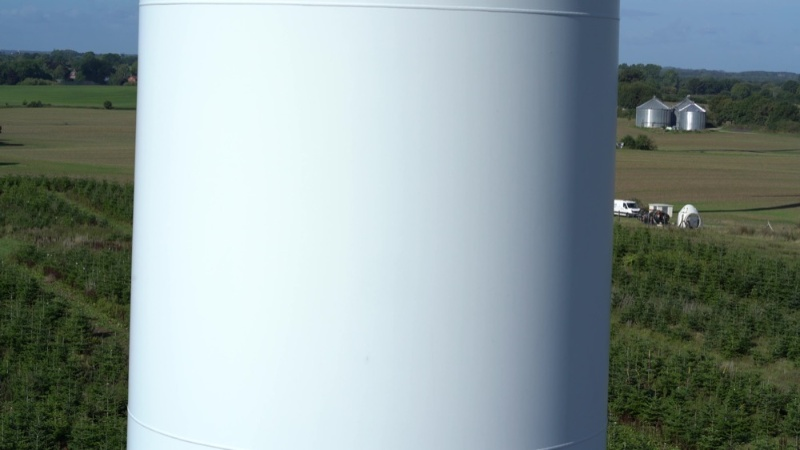weldseam: (140, 1, 621, 24), (126, 403, 245, 450), (524, 415, 606, 450)
